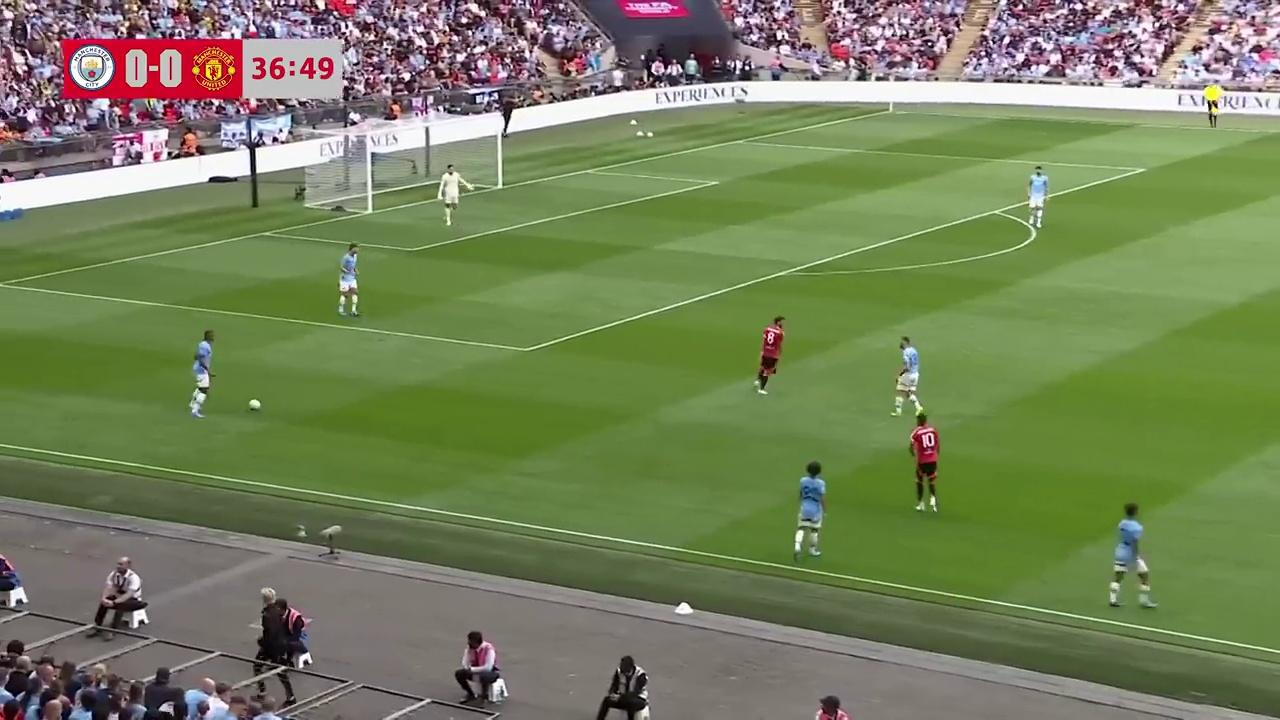ball: (247, 396, 262, 411)
player: (1108, 501, 1156, 608), (793, 460, 826, 559), (909, 413, 940, 513), (188, 328, 215, 418), (755, 316, 785, 395), (892, 335, 921, 416), (436, 165, 471, 227), (337, 243, 360, 316), (1027, 165, 1048, 229)
referee: (1204, 85, 1221, 128)
